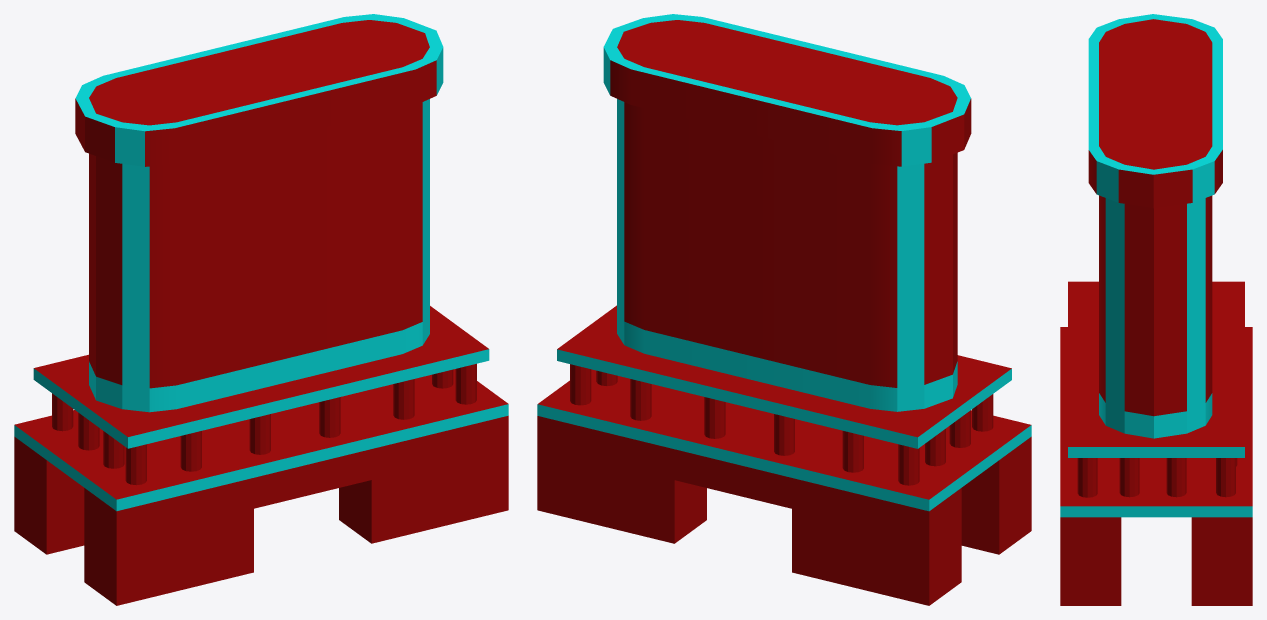
The model's file is GJ_Envrio_Kit_Buildings_HL_23-07-2019_v9.fbx.
The picture shows the model from 3 angles, left to right: view 1: azimuth 30°, elevation 25°; view 2: azimuth 150°, elevation 25°; view 3: azimuth 270°, elevation 25°; orthographic projection. The views are drawn at different scales.
Visible parts, largest first — view 1: Building_5_Cylinder_Cub_Building; view 2: Building_5_Cylinder_Cub_Building; view 3: Building_5_Cylinder_Cub_Building.
Part boxes in pixels (box(x1,y1,x2,y2)): Building_5_Cylinder_Cub_Building: box(14, 14, 508, 605); Building_5_Cylinder_Cub_Building: box(537, 14, 1031, 605); Building_5_Cylinder_Cub_Building: box(1060, 14, 1252, 605).
Size of the model in its own units: 1297 by 1418 by 586.
